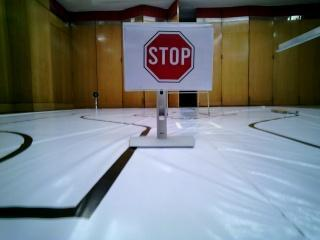stop: (133, 26, 207, 82)
